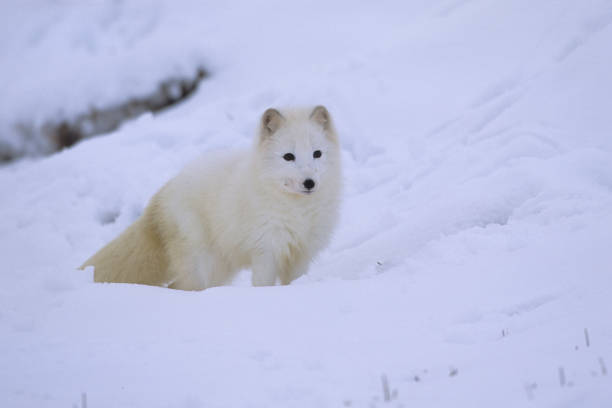arcticfox: (266, 116, 337, 209)
